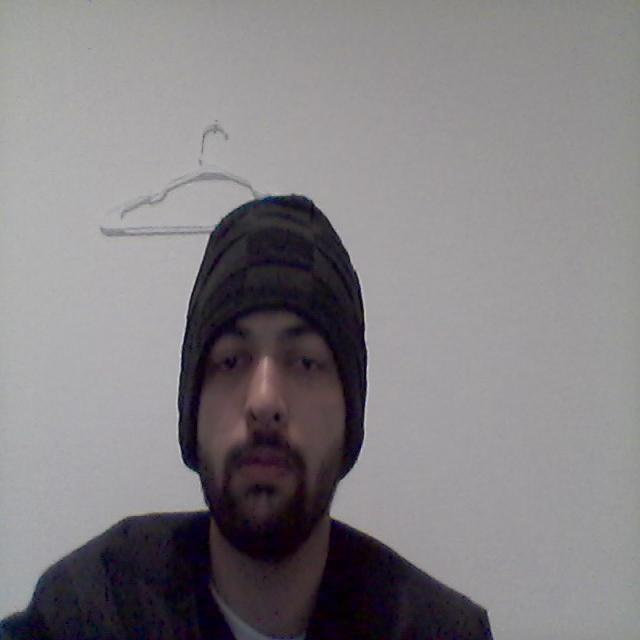cap: (162, 187, 413, 460)
